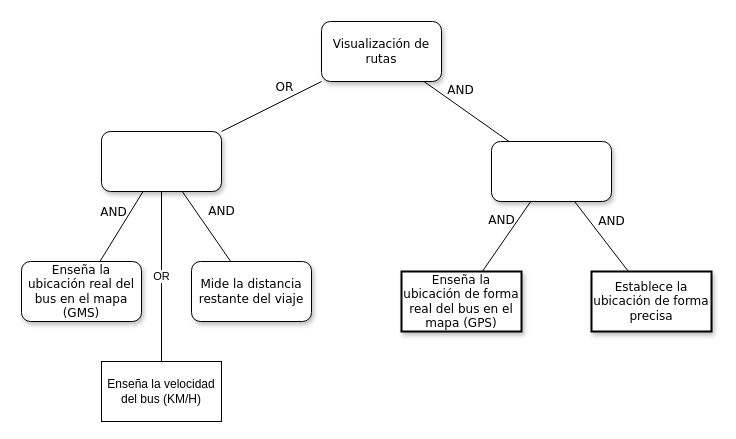
This 736x439 diagram has some shape labels left out. The shapes that lost their labels are listed below. From the top down, each one's centre as x and y in pixels, then its label:
At (162,162): "Vía internet".
At (552,172): "Vía satelital".
